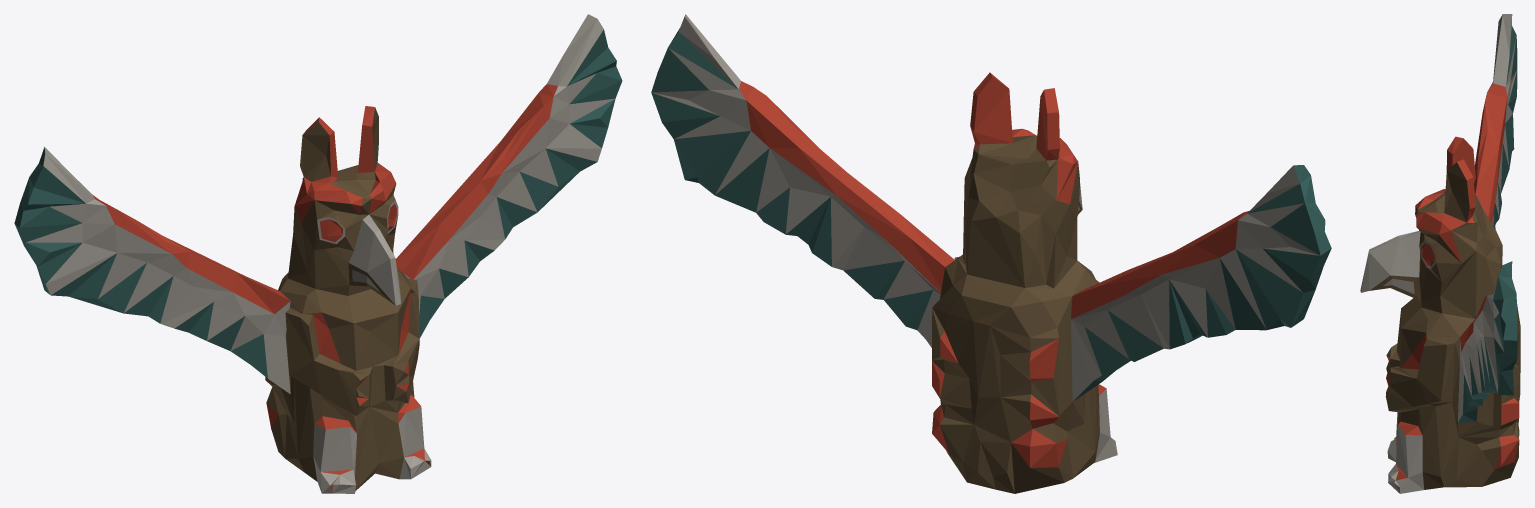
File: TopTotem.fbx
3 renders of one model, left to right at view 1: azimuth 30°, elevation 25°; view 2: azimuth 150°, elevation 25°; view 3: azimuth 270°, elevation 25°, orthographic. The views are drawn at different scales.
Visible parts, largest first — view 1: TopTotem; view 2: TopTotem; view 3: TopTotem.
Boxes of the visible parts, left/top/right/bottom form: TopTotem: left=14, top=14, right=622, bottom=493; TopTotem: left=651, top=14, right=1331, bottom=493; TopTotem: left=1360, top=14, right=1520, bottom=493.
Bounding box in the file's own units: 245 × 140 × 60.54.
